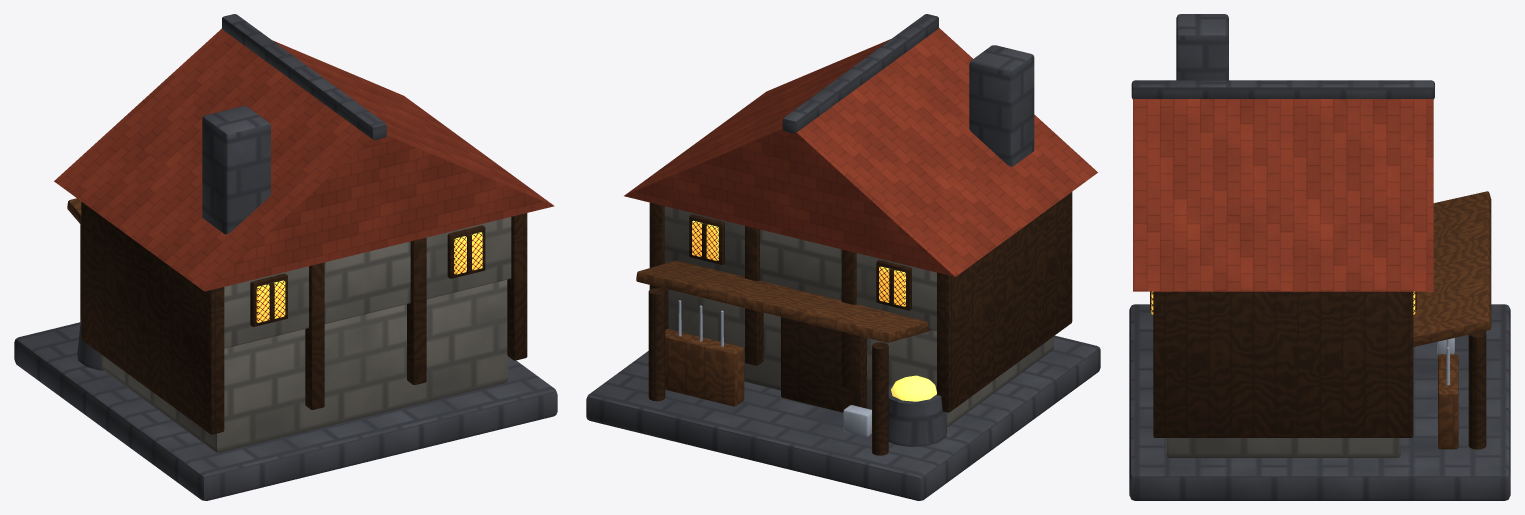
File: building_barracks.glb
3 renders of one model, left to right at view 1: azimuth 30°, elevation 25°; view 2: azimuth 150°, elevation 25°; view 3: azimuth 270°, elevation 25°, orthographic. The views are drawn at different scales.
Visible parts, largest first — view 1: building_barracks; view 2: building_barracks; view 3: building_barracks.
Boxes of the visible parts, x1,y1,x2,y2 form: building_barracks: (14,14,557,500); building_barracks: (586,14,1100,500); building_barracks: (1129,14,1510,500).
Size of the model in its own units: 5.6 by 5.12 by 5.2.
8 materials, 7 textured.
